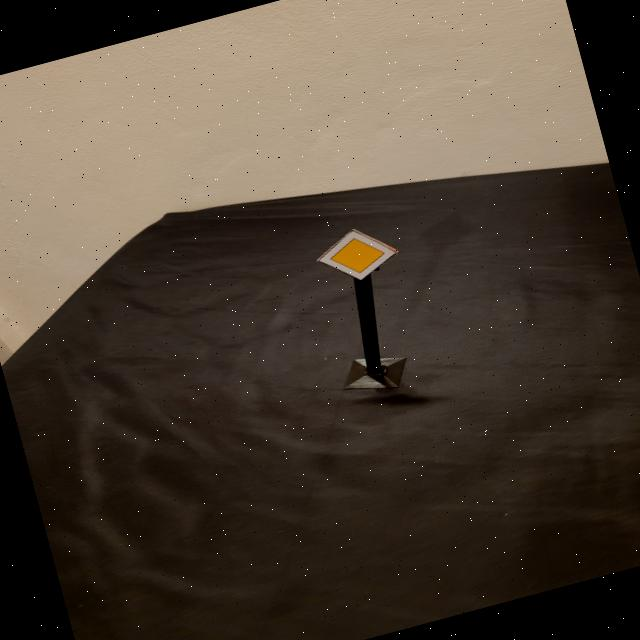priority: (310, 218, 404, 290)
